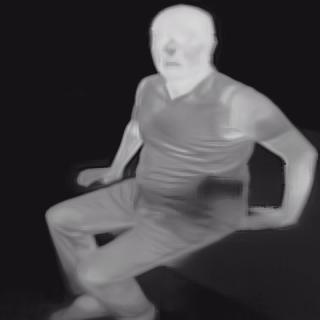Gun: (194, 176, 244, 222)
